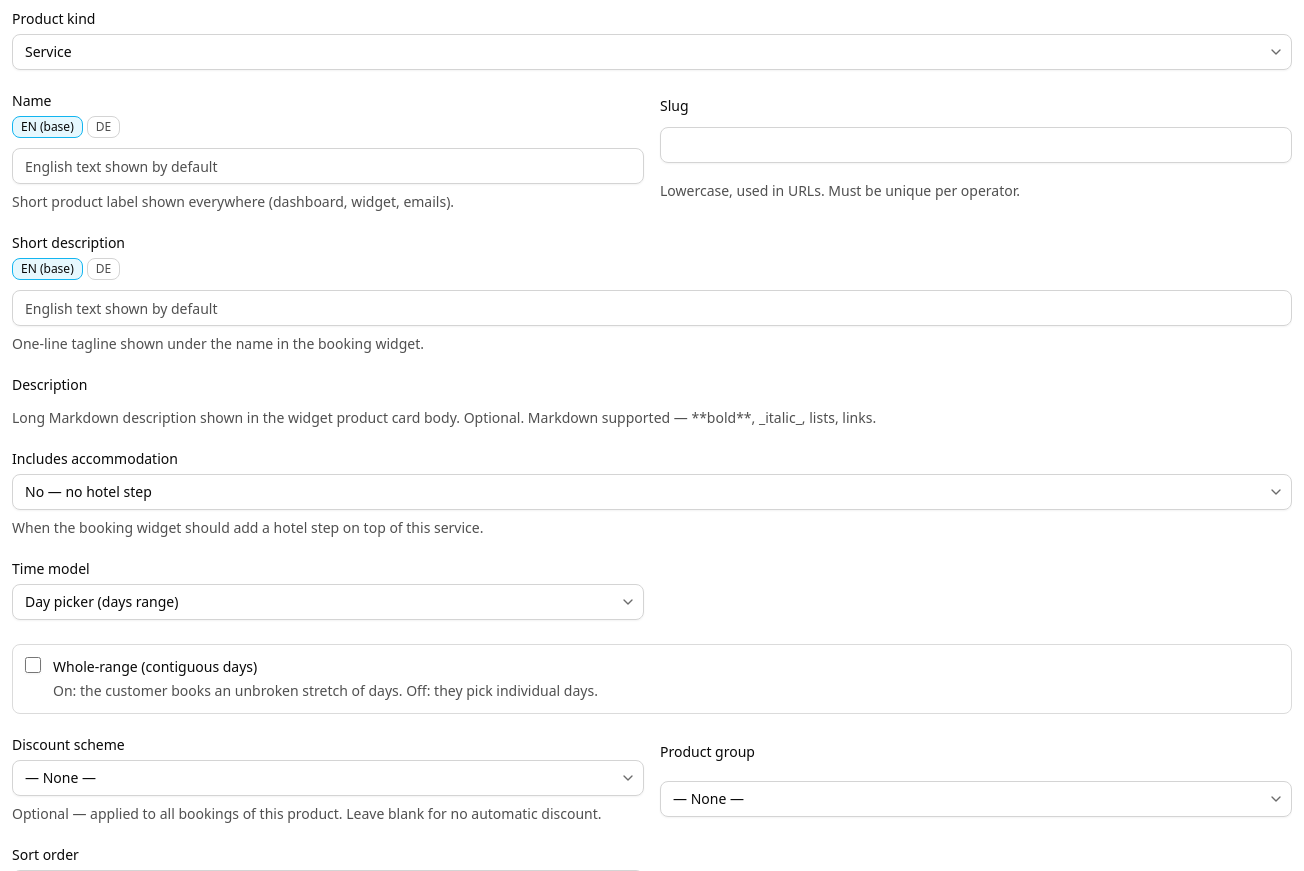
Scenario: ProductForm — hotel_room kind (landr-ssrx) › warns when the operator has no hotel-role locations yet
Select "Hotel room" in the dropdown labelled "Product kind" at [652, 52], box [12,34,1292,70]
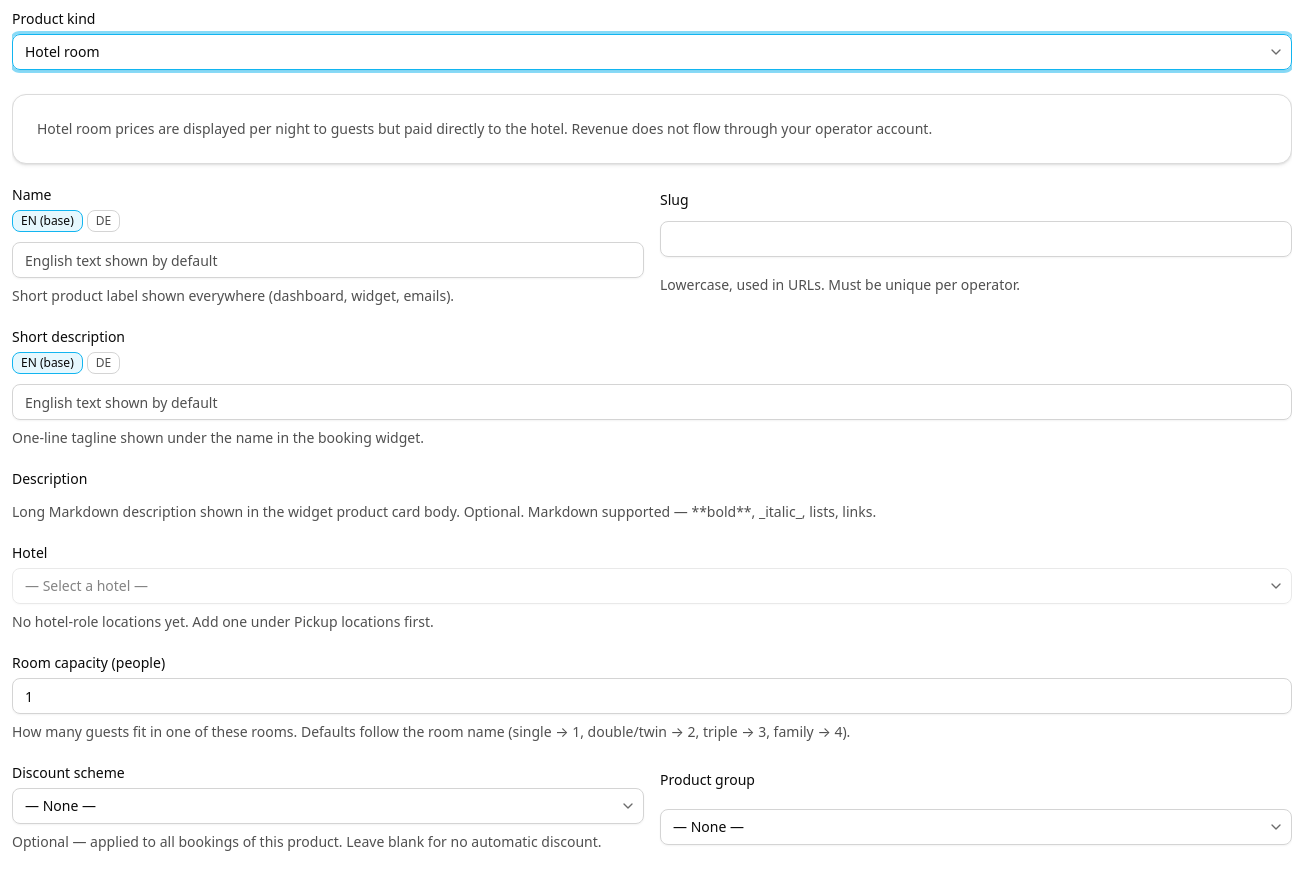
Check: the dropdown labelled "Hotel" is disabled, box [12,568,1292,604]
Check: the text "No hotel-role locations yet" is shown, box [12,612,434,631]
